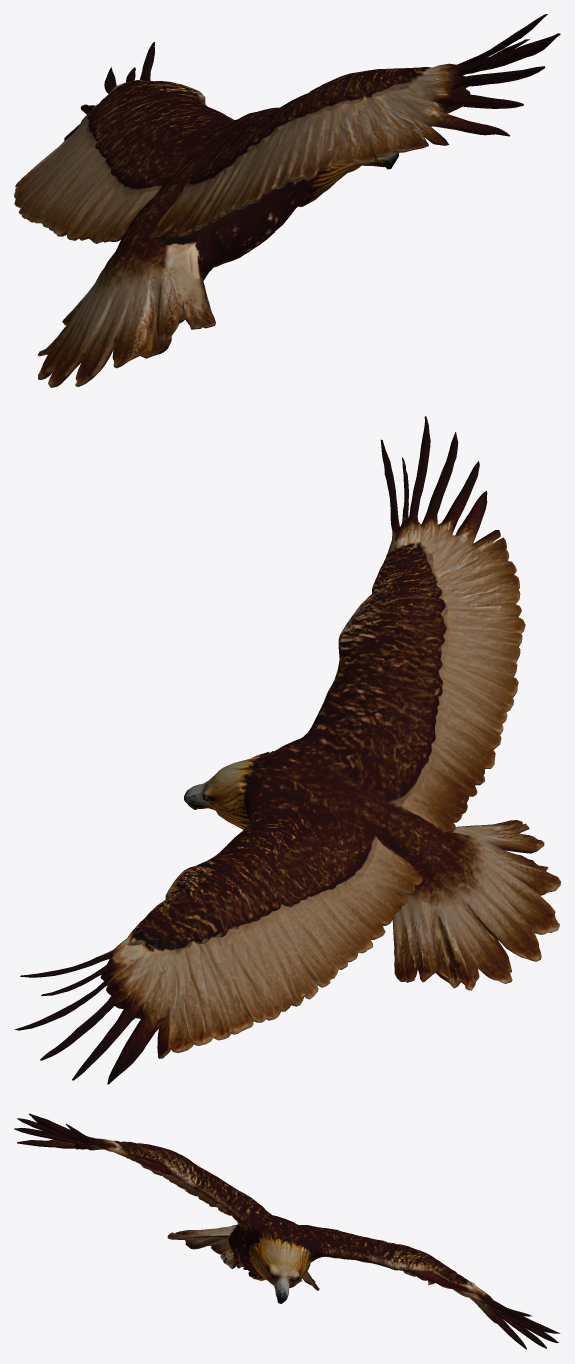
File: eagle.glb
3 views of the same model, one above another, from view 1: azimuth 30°, elevation 25°; view 2: azimuth 150°, elevation 25°; view 3: azimuth 270°, elevation 25° (orthographic). The views are drawn at different scales.
Parts seen in each view (by area): view 1: tripo_node_5033b85e-d1e7-4dbe-8245-b27eddb3aa89; view 2: tripo_node_5033b85e-d1e7-4dbe-8245-b27eddb3aa89; view 3: tripo_node_5033b85e-d1e7-4dbe-8245-b27eddb3aa89.
Part boxes in pixels (left/top/right/bottom): tripo_node_5033b85e-d1e7-4dbe-8245-b27eddb3aa89: left=14, top=14, right=560, bottom=387; tripo_node_5033b85e-d1e7-4dbe-8245-b27eddb3aa89: left=14, top=416, right=560, bottom=1084; tripo_node_5033b85e-d1e7-4dbe-8245-b27eddb3aa89: left=14, top=1113, right=560, bottom=1349.
Bounding box in the file's own units: 1.08 × 1.2 × 2.34.
Materials: 1 (1 with a texture image).
